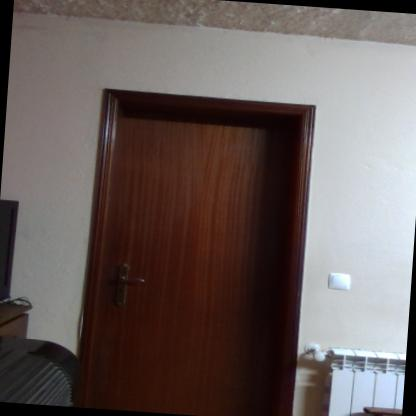closed: (55, 61, 340, 414)
